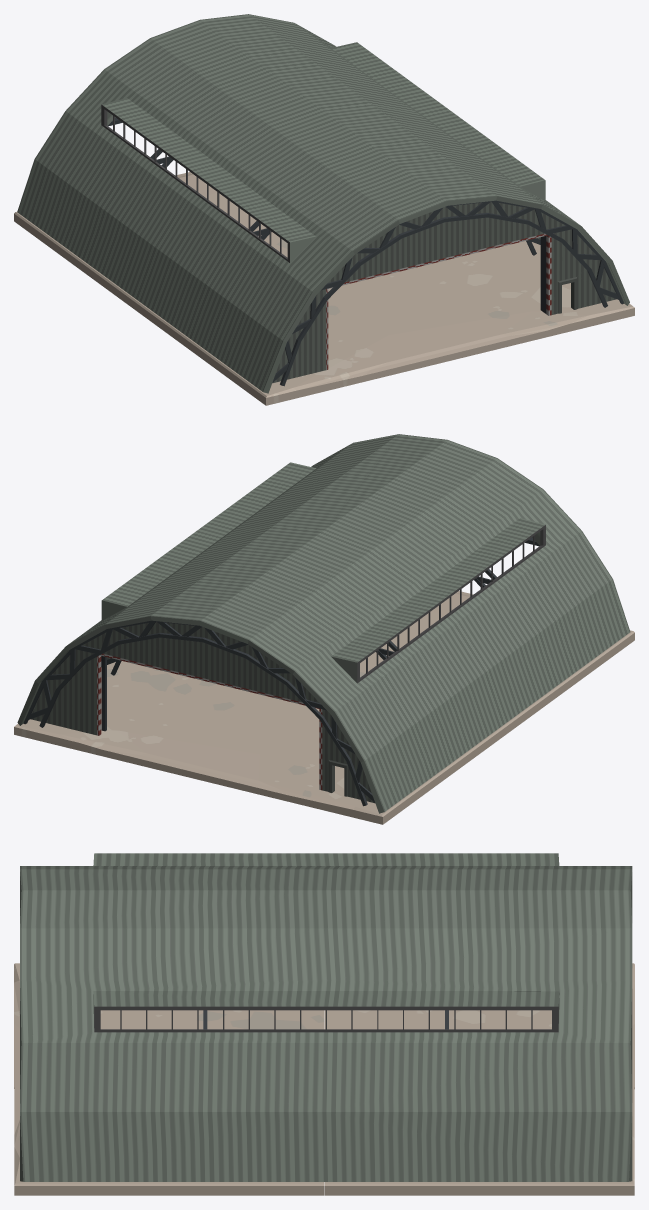
The model's file is SM_Bld_Hangar_01.glb.
3 views of the same model, one above another, from view 1: azimuth 30°, elevation 25°; view 2: azimuth 150°, elevation 25°; view 3: azimuth 270°, elevation 25° (orthographic). The views are drawn at different scales.
Parts seen in each view (by area): view 1: SM_Bld_Hangar_01; view 2: SM_Bld_Hangar_01; view 3: SM_Bld_Hangar_01.
Boxes of the visible parts, box(x1,y1,x2,y2) form: SM_Bld_Hangar_01: box(14, 14, 634, 405); SM_Bld_Hangar_01: box(14, 434, 634, 824); SM_Bld_Hangar_01: box(14, 853, 634, 1195).
Size of the model in its own units: 30.63 by 12.52 by 36.26.
Materials: 1 (1 with a texture image).
